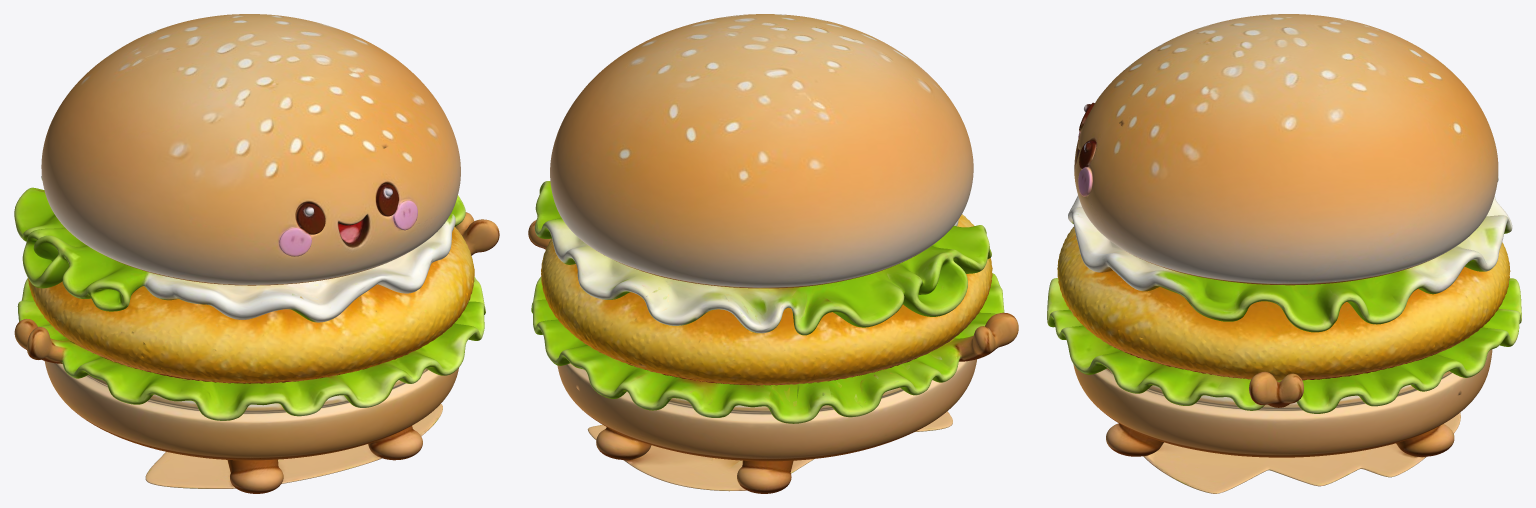
Rendered from chicken_burger.glb.
The picture shows the model from 3 angles, left to right: view 1: azimuth 30°, elevation 25°; view 2: azimuth 150°, elevation 25°; view 3: azimuth 270°, elevation 25°; orthographic projection.
Visible parts, largest first — view 1: node_0; view 2: node_0; view 3: node_0.
Part boxes in pixels (bbox=[...]): node_0: bbox=[14, 14, 499, 493]; node_0: bbox=[528, 14, 1018, 493]; node_0: bbox=[1047, 14, 1521, 493].
Size of the model in its own units: 1.15 by 0.8807 by 0.9992.
Materials: 1 (1 with a texture image).
